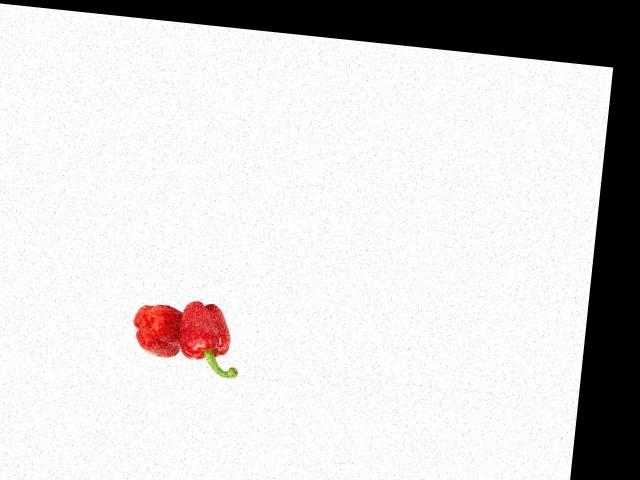bell_pepper: (130, 299, 184, 362)
